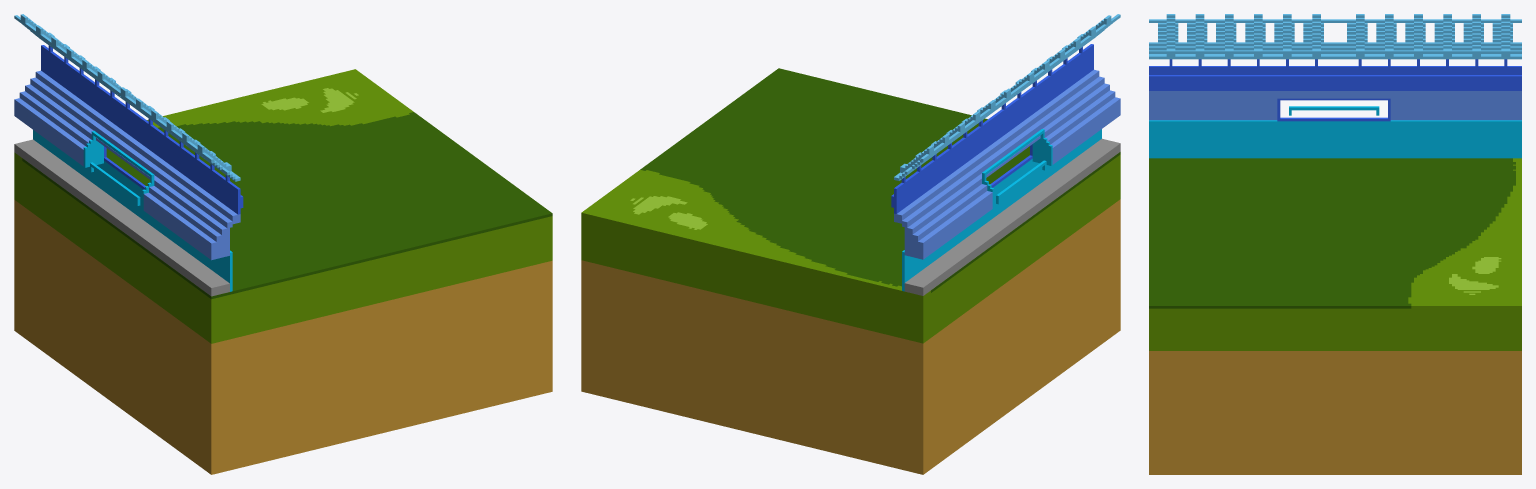
3 renders of one model, left to right at view 1: azimuth 30°, elevation 25°; view 2: azimuth 150°, elevation 25°; view 3: azimuth 270°, elevation 25°, orthographic. The views are drawn at different scales.
Visible parts, largest first — view 1: 4L-2; view 2: 4L-2; view 3: 4L-2.
Part boxes in pixels (box(x1,y1,x2,y2)): 4L-2: box(14, 14, 552, 474); 4L-2: box(581, 14, 1120, 474); 4L-2: box(1149, 14, 1521, 474).
Bounding box in the file's own units: 12.8 × 11.5 × 12.8.
Materials: 1 (1 with a texture image).
